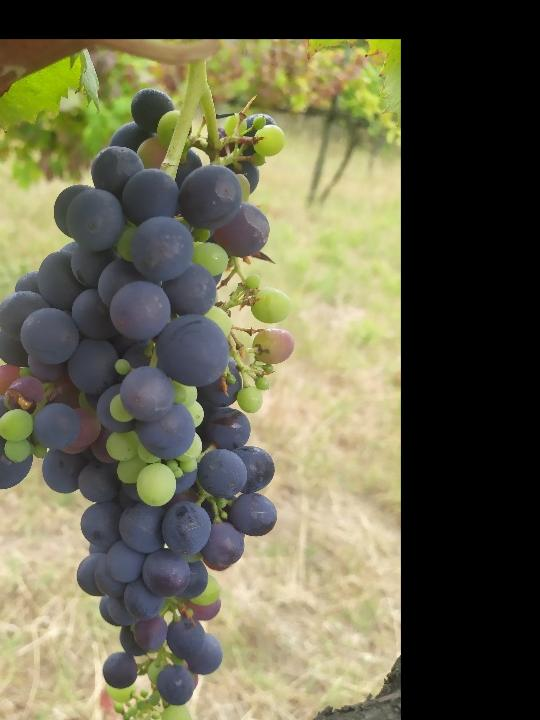grape: (0, 87, 301, 720)
